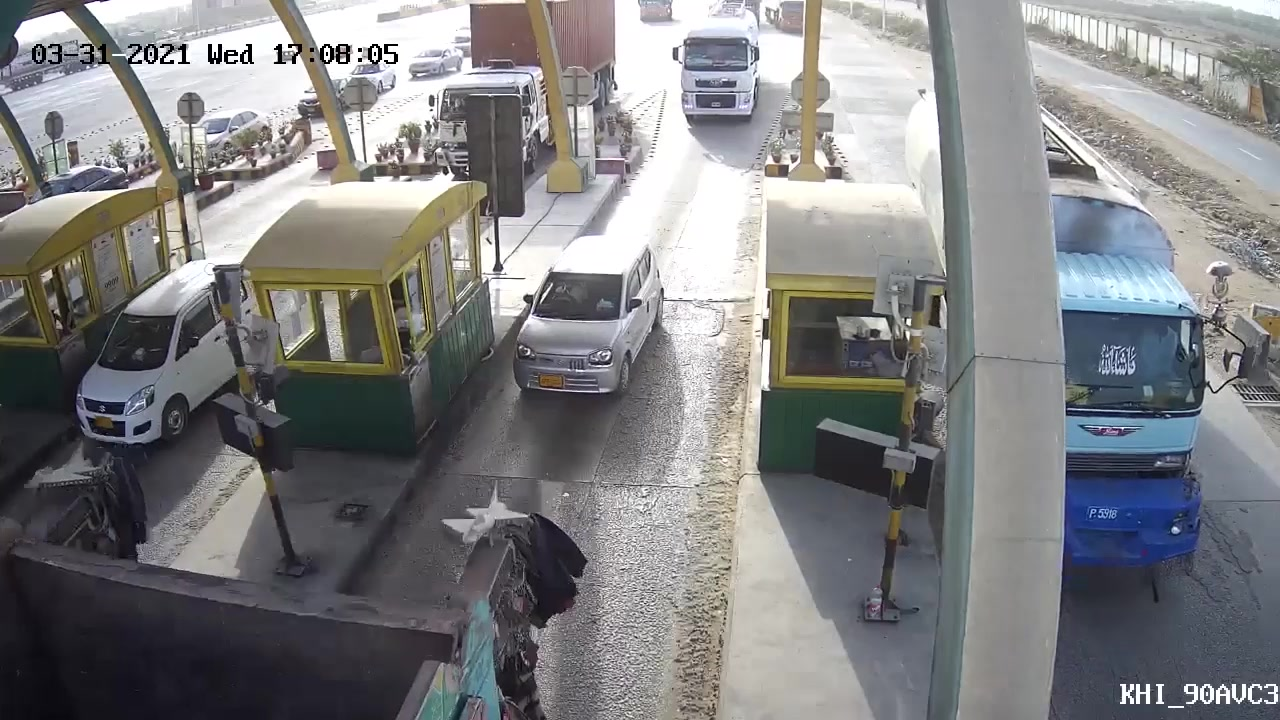F1: (498, 226, 669, 418)
